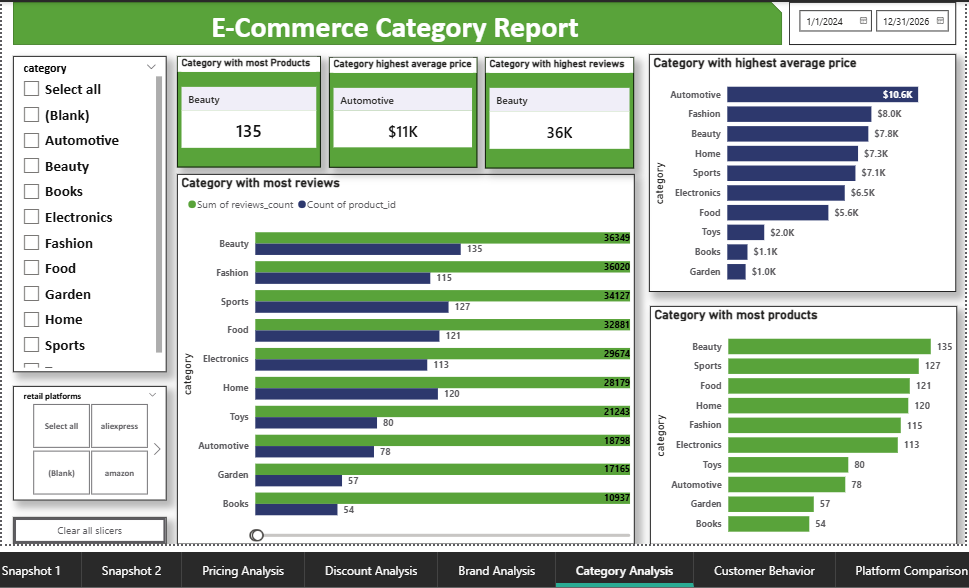

The page's visual inventory and layout, read from the dashboard file:
{"tool":"powerbi","page":{"name":"Category Analysis","canvas":[1280,720],"ordinal":5},"visuals":[{"type":"shape","box":[14.3,0,1021.7,57.1],"z":0},{"type":"slicer","fields":{"Values":["ecommerce_dataset.retail platforms"]},"box":[14.3,509.5,203.8,152],"z":1000},{"type":"actionButton","box":[14.3,684.7,203.8,35.8],"z":2000},{"type":"clusteredBarChart","title":"Category with most products","fields":{"Category":["ecommerce_dataset.category"],"Y":["CountNonNull(ecommerce_dataset.product_id)"]},"box":[860.4,403.3,407.8,316.7],"z":3000},{"type":"slicer","fields":{"Values":["ecommerce_dataset.category"]},"box":[14.3,71.5,203.8,420.1],"z":4000},{"type":"cardVisual","title":"Category with most Products","fields":{"Data":["CountNonNull(ecommerce_dataset.product_id)"],"Rows":["ecommerce_dataset.category"]},"box":[232.4,71.5,191.3,148.4],"z":5000},{"type":"clusteredBarChart","title":"Category with highest average price","fields":{"Category":["ecommerce_dataset.category"],"Y":["Avg(ecommerce_dataset.price_current)"]},"box":[859.9,69.7,407.6,316.4],"z":6000},{"type":"clusteredBarChart","title":"Category with most reviews","fields":{"Category":["ecommerce_dataset.category"],"Y":["Sum(ecommerce_dataset.reviews_count)","CountNonNull(ecommerce_dataset.product_id)"]},"box":[232.4,228.8,607.8,491.6],"z":7000},{"type":"cardVisual","title":"Category highest average price","fields":{"Rows":["ecommerce_dataset.category"],"Data":["Avg(ecommerce_dataset.price_current)"]},"box":[434.4,73.3,196.6,146.6],"z":8000},{"type":"cardVisual","title":"Category with highest reviews","fields":{"Rows":["ecommerce_dataset.category"],"Data":["Sum(ecommerce_dataset.reviews_count)"]},"box":[641.8,73.3,198.4,148.4],"z":9000},{"type":"slicer","fields":{"Values":["Date Table.Date"]},"box":[1045.8,0,221.7,57.2],"z":10000}]}

Visuals, with their boxes in screenshot pixels (x1, y1, x2, y2):
shape: 13 10 776 53
slicer - ecommerce_dataset.retail platforms: 13 390 165 504
actionButton: 13 521 165 548
"Category with most products" clusteredBarChart: 645 311 949 548
slicer - ecommerce_dataset.category: 13 63 165 377
"Category with most Products" cardVisual: 176 63 319 174
"Category with highest average price" clusteredBarChart: 644 62 949 298
"Category with most reviews" clusteredBarChart: 176 181 630 548
"Category highest average price" cardVisual: 327 65 474 174
"Category with highest reviews" cardVisual: 482 65 630 176
slicer - Date Table.Date: 783 10 949 53
